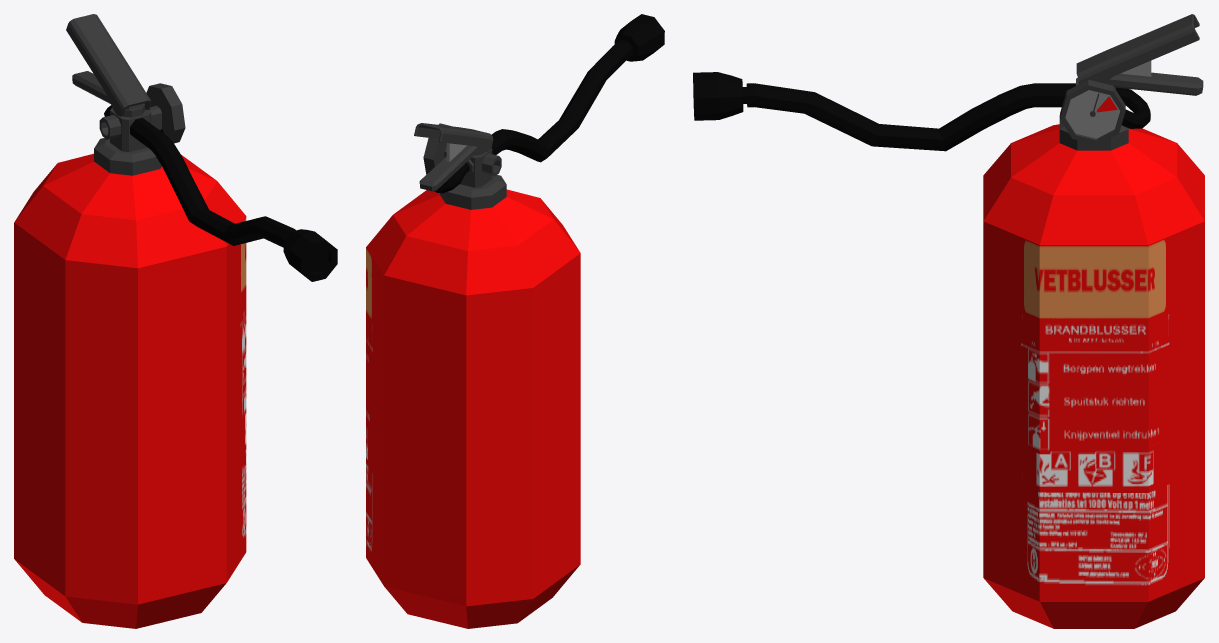
File: vetblusser_spuit.fbx
3 views of the same model, side by side, from view 1: azimuth 30°, elevation 25°; view 2: azimuth 150°, elevation 25°; view 3: azimuth 270°, elevation 25° (orthographic). The views are drawn at different scales.
Parts seen in each view (by area): view 1: Cube.001; view 2: Cube.001; view 3: Cube.001.
Part boxes in pixels (<box>): Cube.001: <box>14,14,337,628</box>; Cube.001: <box>366,14,664,628</box>; Cube.001: <box>693,14,1204,628</box>.
Bounding box in the file's own units: 470 × 1388 × 1086.
4 materials, 1 textured.
